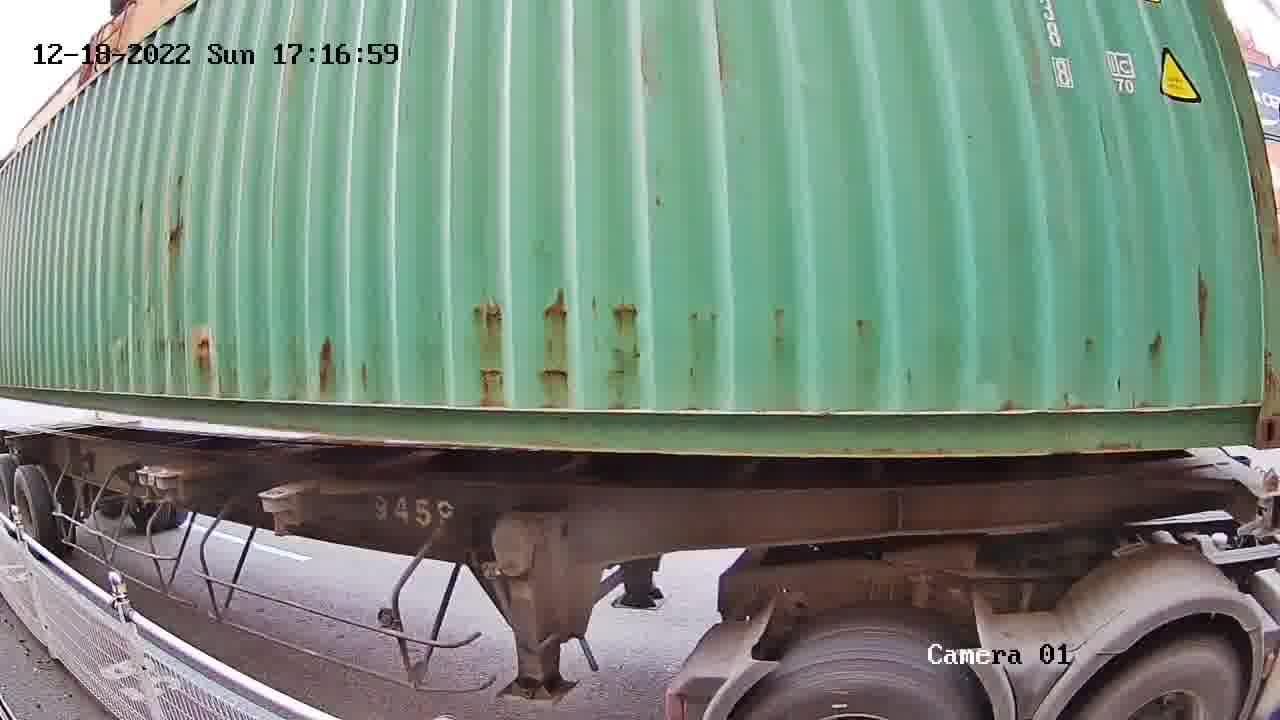Cone: (1235, 463, 1279, 535)
Hole_R: (1224, 373, 1279, 447)
Tire: (735, 656, 975, 716), (1079, 644, 1240, 717)
